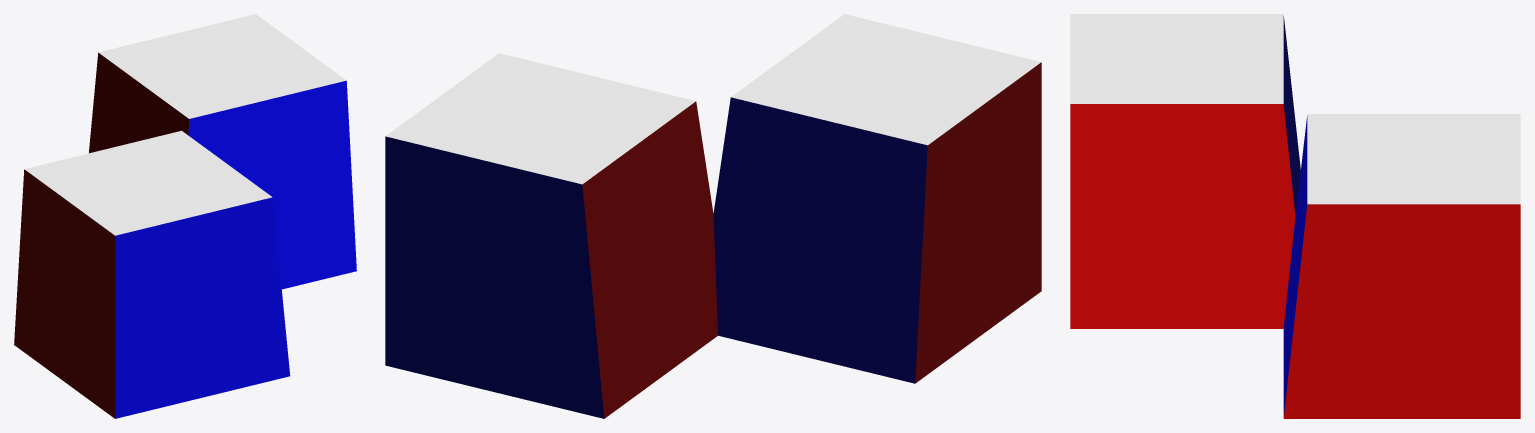
The model's file is labeled_CAD.glb.
The picture shows the model from 3 angles, left to right: view 1: azimuth 30°, elevation 25°; view 2: azimuth 150°, elevation 25°; view 3: azimuth 270°, elevation 25°; orthographic projection. The views are drawn at different scales.
Bounding box in the file's own units: 19 × 10 × 19.
Materials: 1 (1 with a texture image).
